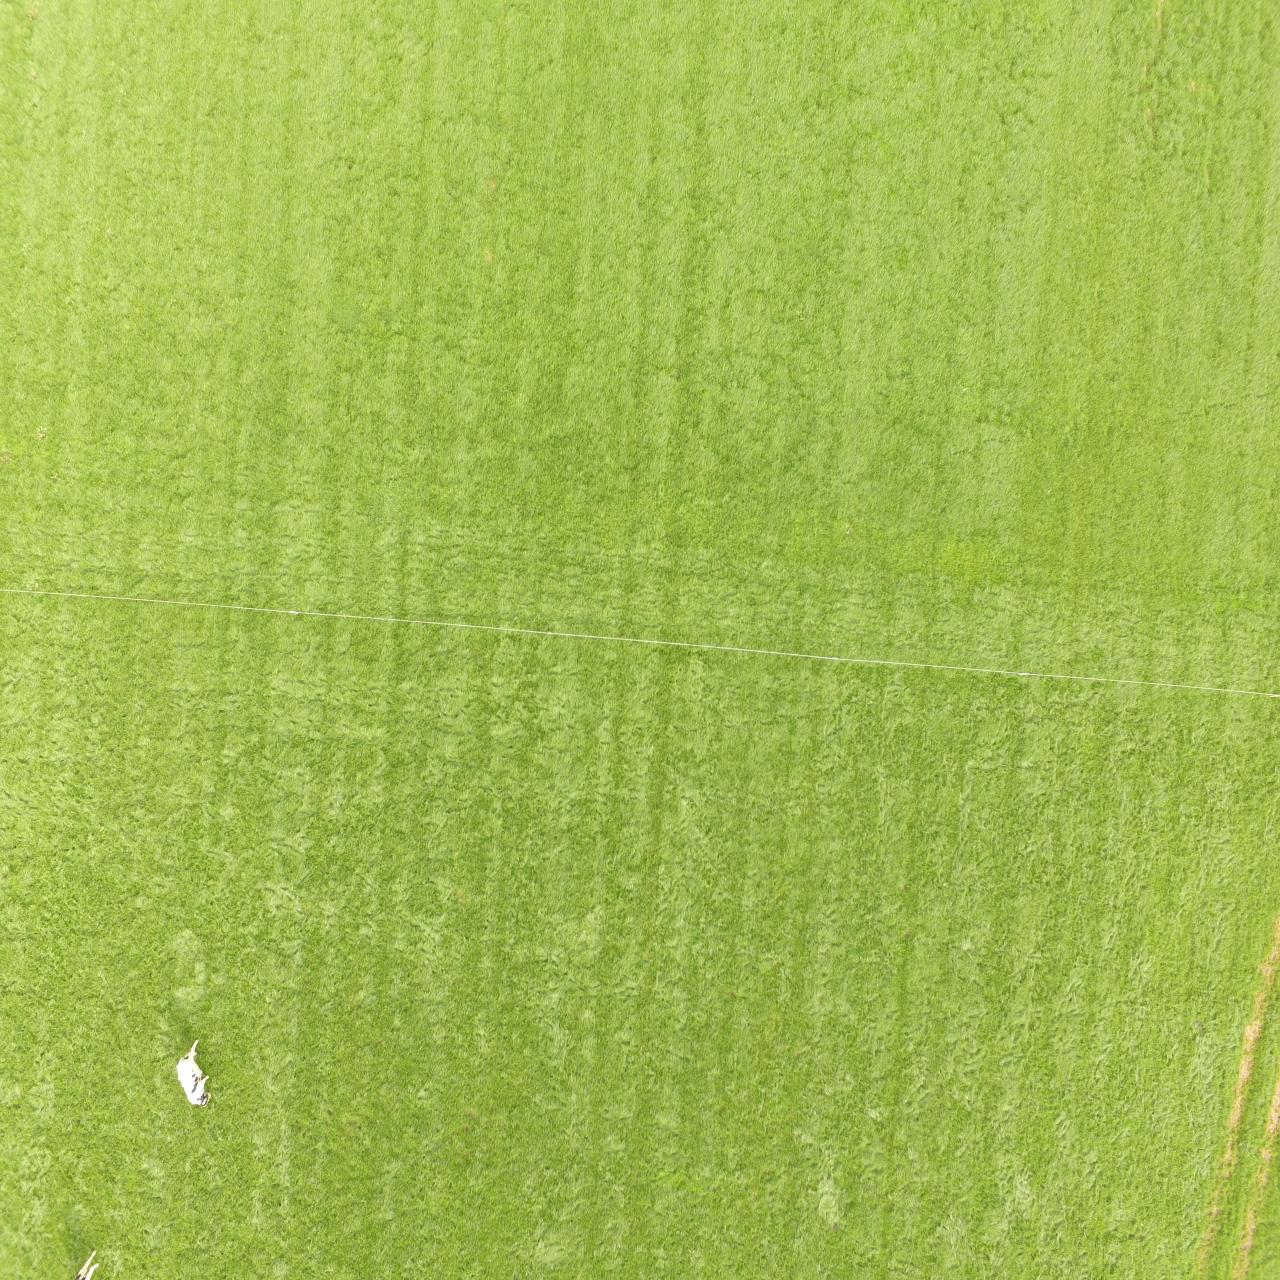cow: (172, 1035, 214, 1112)
